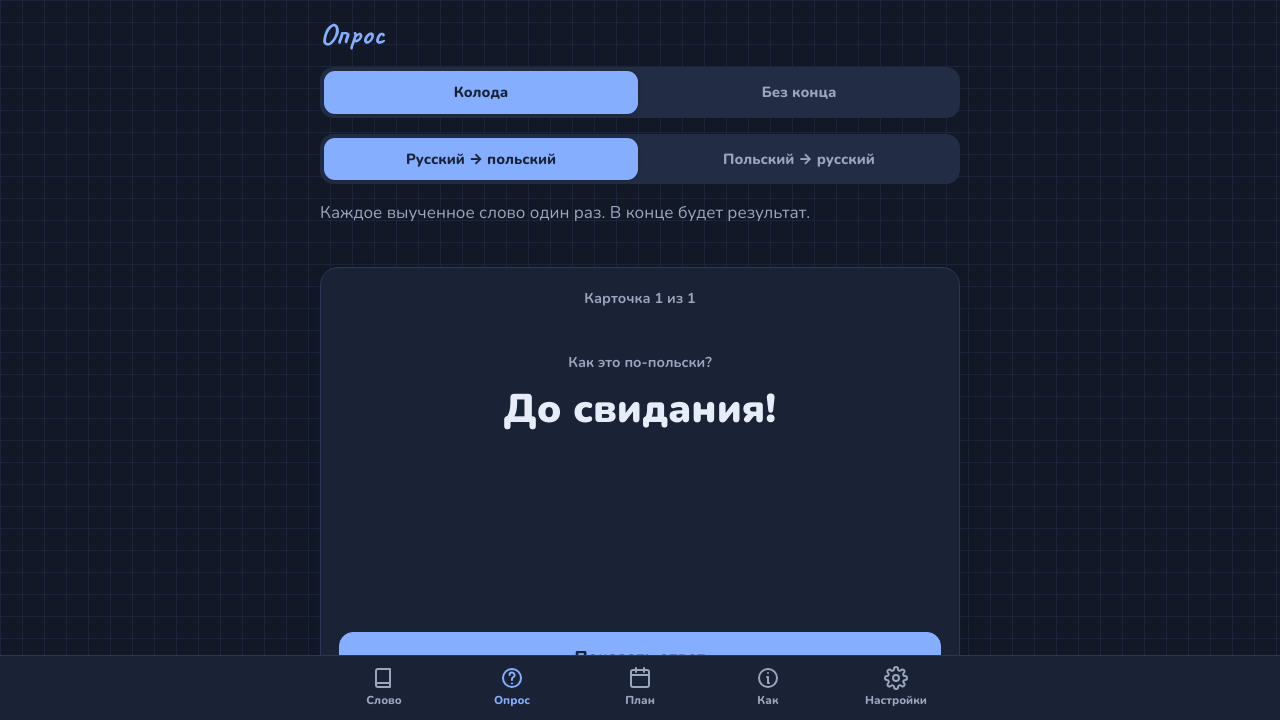
Scenario: switches and lead › a press on the other mode switches the screen
Click the button "Без конца". click: x=799, y=92
box: [642,71,956,114]
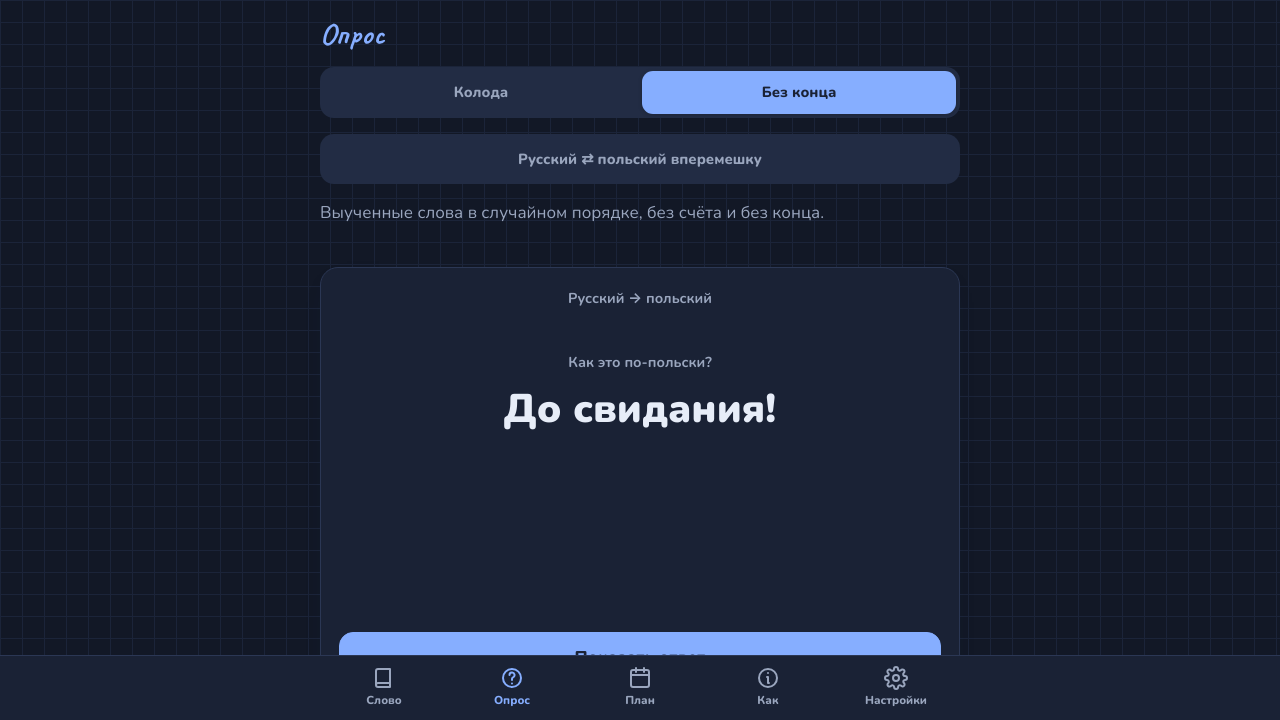
Expected: the button "Без конца" is pressed, [642,71,956,114]
Click the button "Колода". click: x=481, y=92
box: [324,71,638,114]
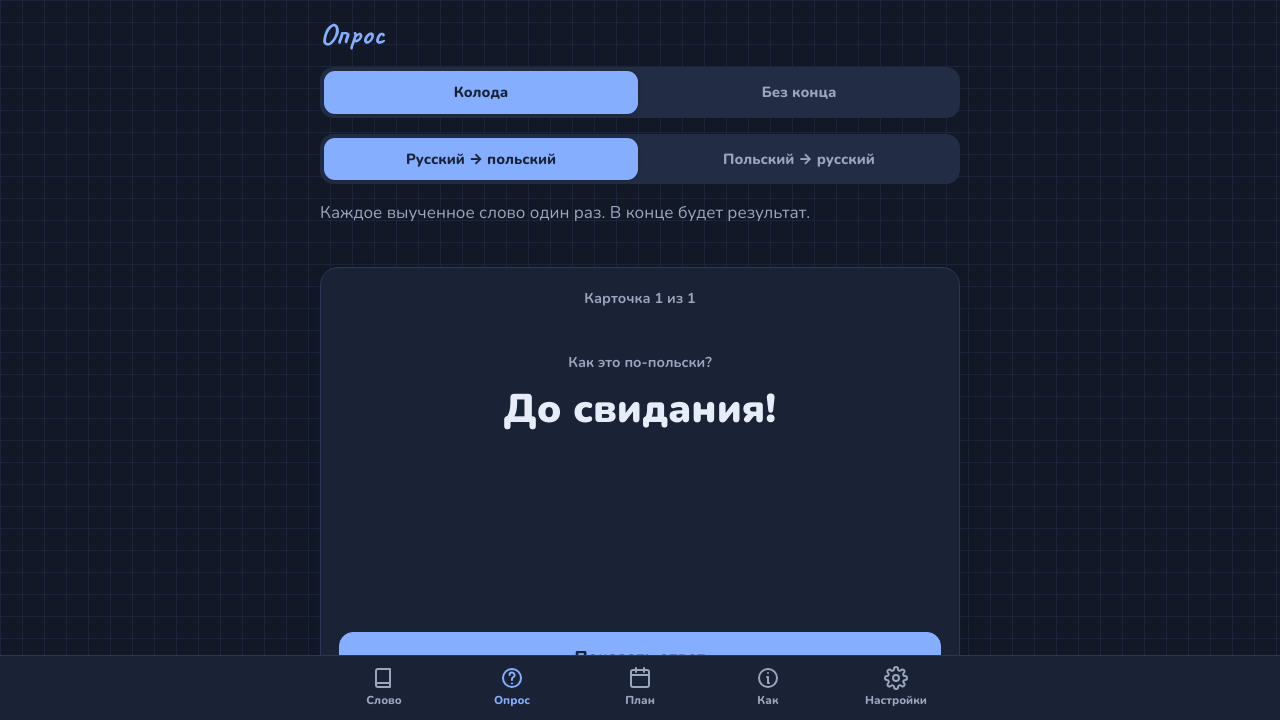
Expected: the text with class "ask" reads "Карточка 1 из 1", [584,288,696,308]
